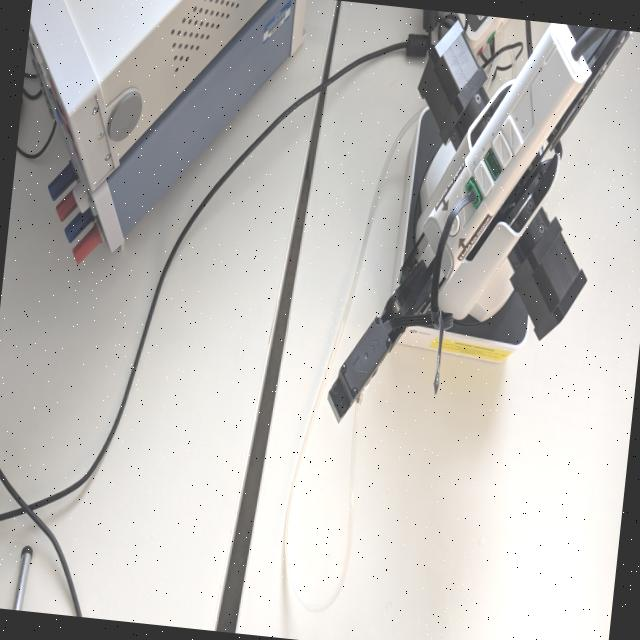Robot-end-effector-HF8z: (319, 304, 401, 429)
